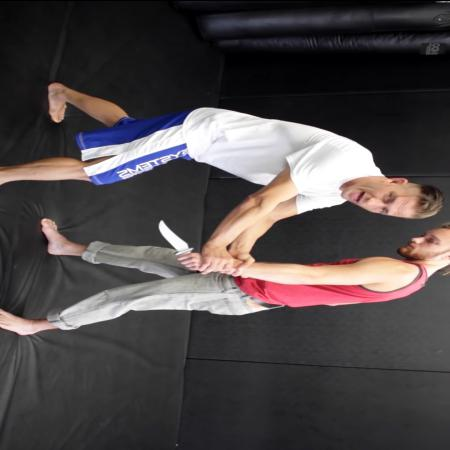long weapon: (152, 216, 204, 272)
